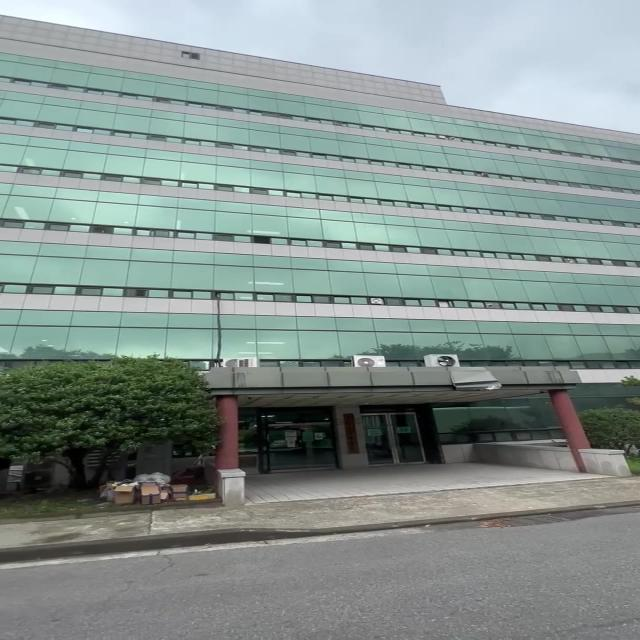building: (35, 39, 521, 361)
